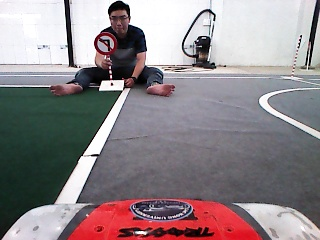ban_left: (94, 32, 117, 55)
